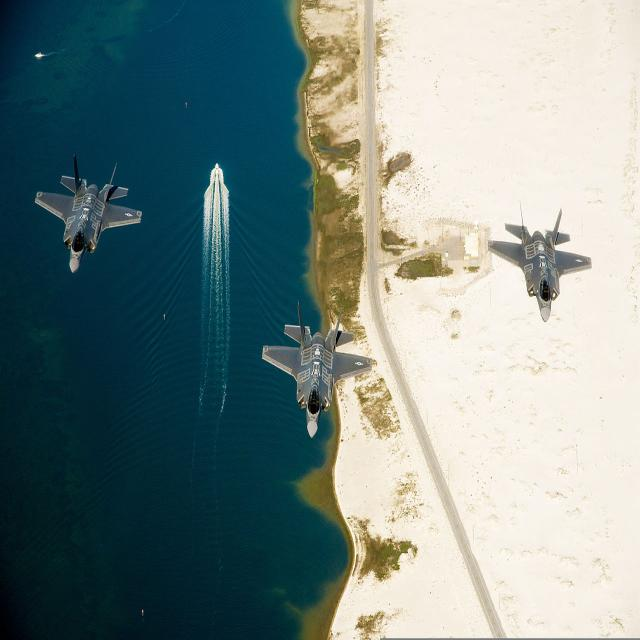MIL_Plane: (488, 201, 592, 323), (274, 298, 360, 439), (56, 153, 121, 274)
